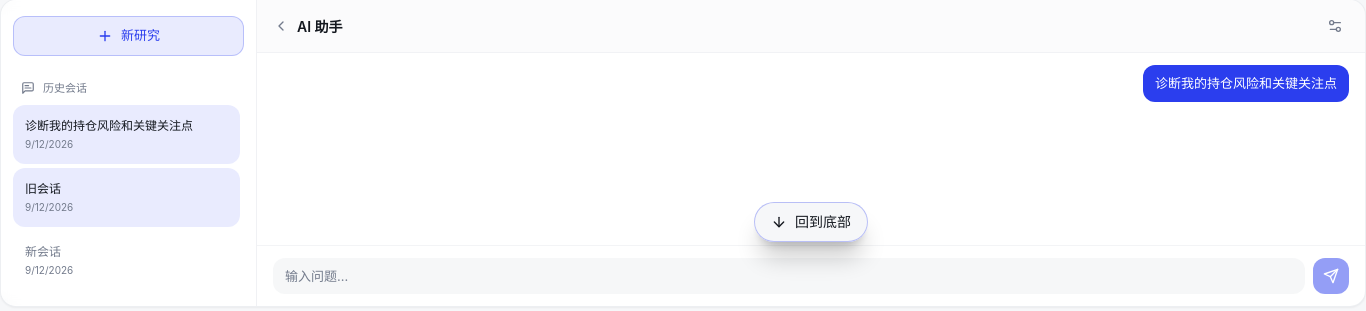
Test: ChatWidget layout › shows a prominent centered control when the reader scrolls away from the latest message
Earlier steps of the test are not shown.
Click the button "回到底部".
click(811, 222)  # box x1=754 y1=202 x2=868 y2=242
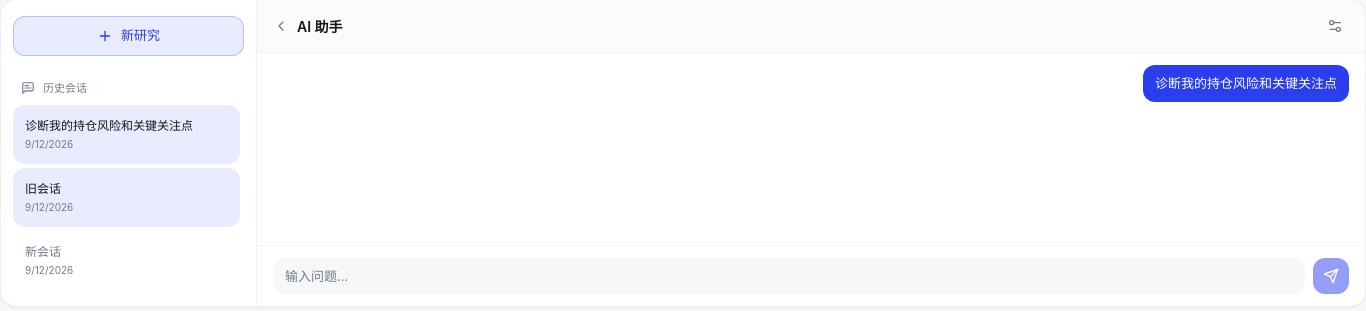
Check: the button "回到底部" is gone
